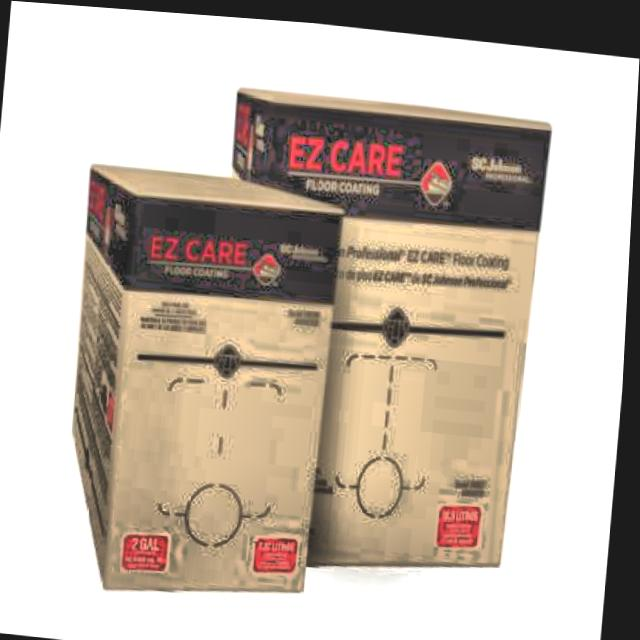Cardbox: (203, 64, 580, 589), (44, 131, 351, 603)
